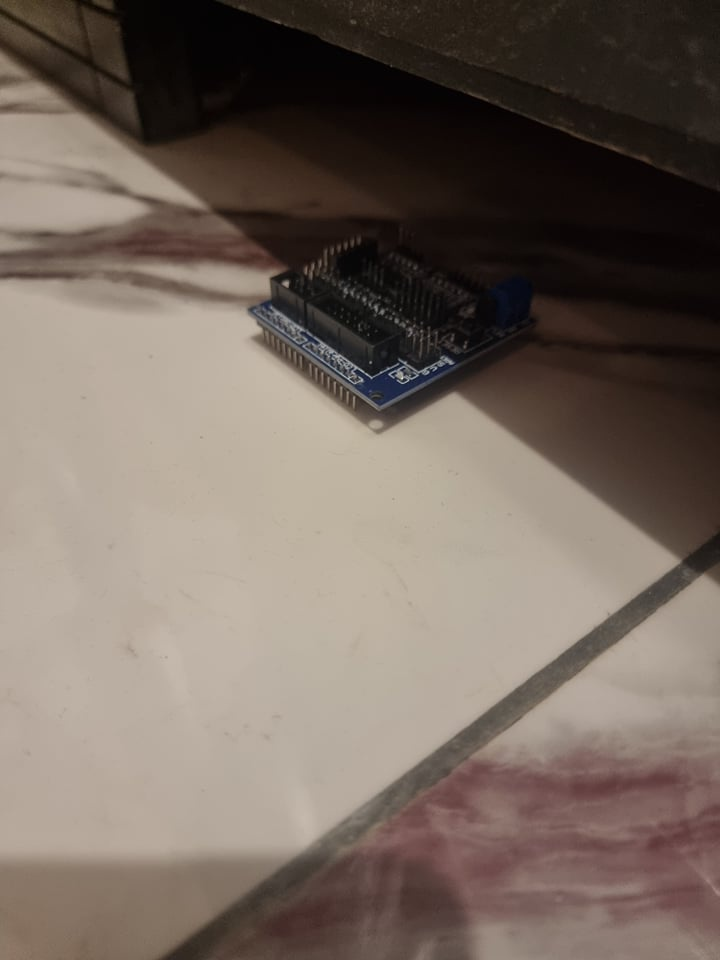5V EXPANSION: (247, 225, 539, 419)
